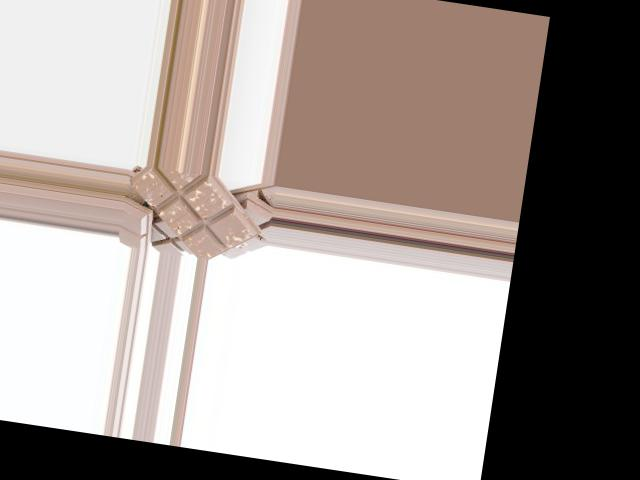chocolate: (122, 163, 259, 264)
